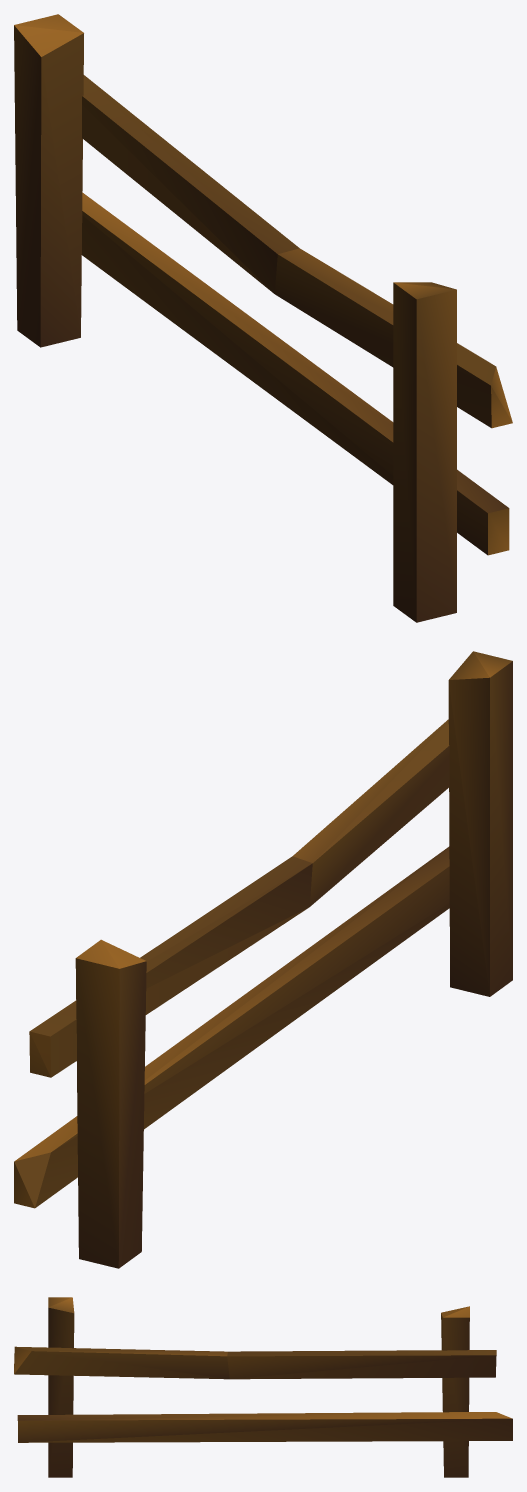
Rendered from Mixed_Fence_01.fbx.
The picture shows the model from 3 angles, top to bottom: view 1: azimuth 30°, elevation 25°; view 2: azimuth 150°, elevation 25°; view 3: azimuth 270°, elevation 25°; orthographic projection. The views are drawn at different scales.
Parts seen in each view (by area): view 1: Fence_01.001; view 2: Fence_01.001; view 3: Fence_01.001.
Part boxes in pixels (bbox=[...]): Fence_01.001: bbox=[14, 14, 512, 622]; Fence_01.001: bbox=[14, 651, 512, 1268]; Fence_01.001: bbox=[14, 1297, 512, 1477].
Size of the model in its own units: 44.35 by 208 by 551.
